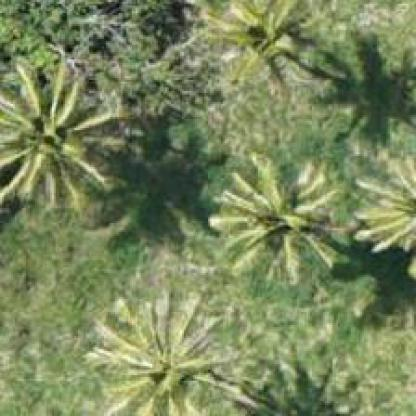coconut tree: (0, 53, 133, 208), (84, 292, 237, 414), (216, 167, 333, 276), (233, 11, 298, 63), (370, 168, 415, 242)
